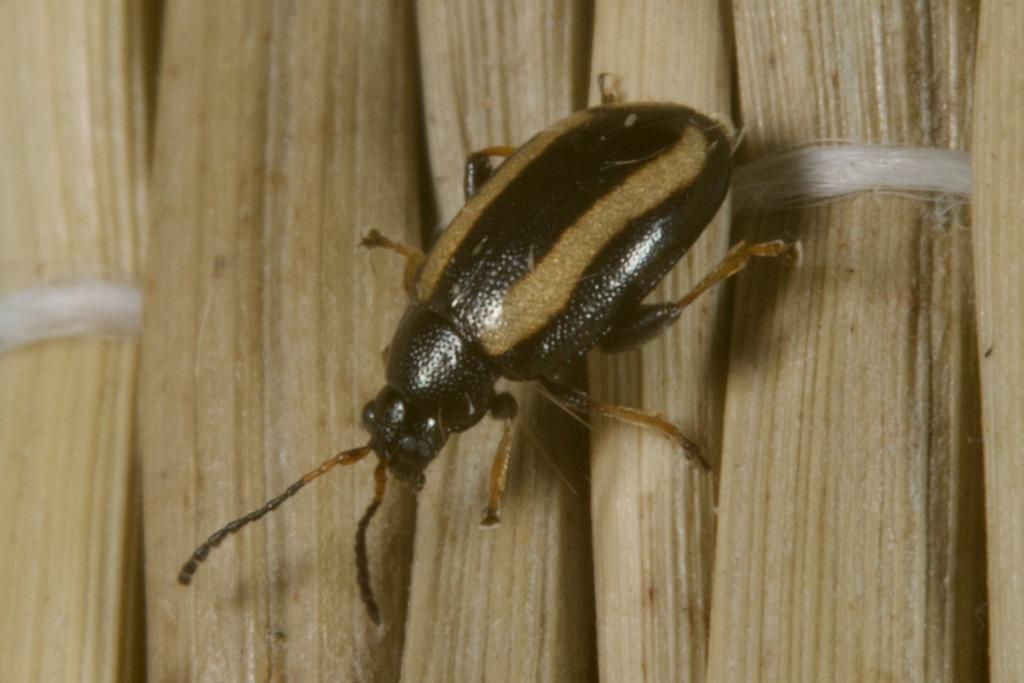flea_beetle: (121, 19, 986, 674)
